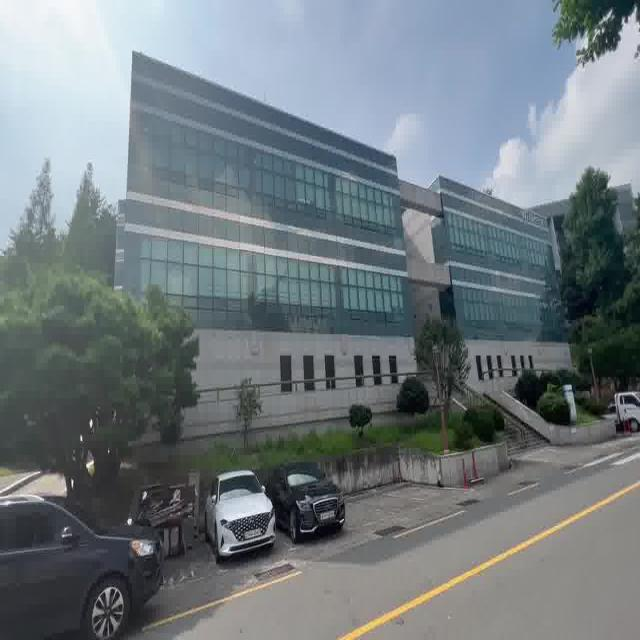building: (132, 48, 553, 370)
